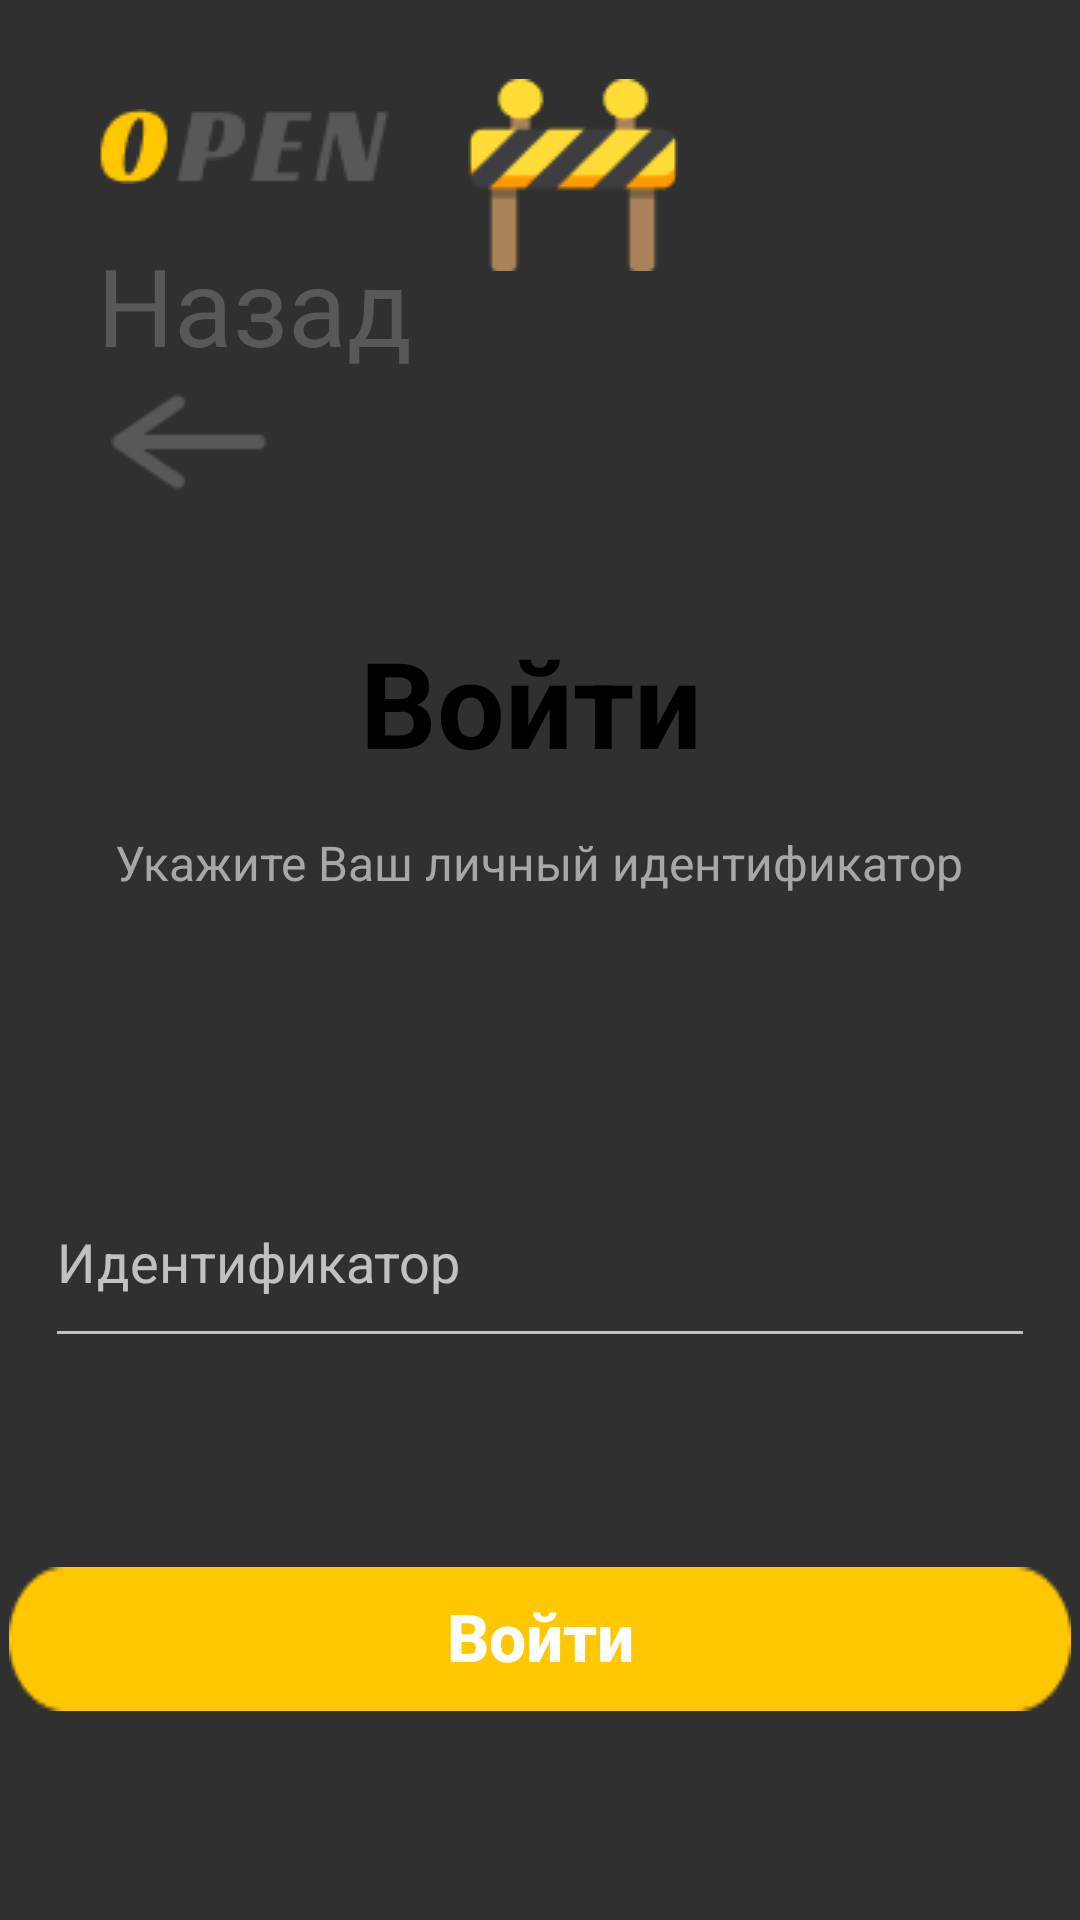

Icon bounding boxes for this 1080×1920 phone screenshot, format box=[x1, y1, x2, y2]:
barrier: box=[468, 79, 678, 271]
